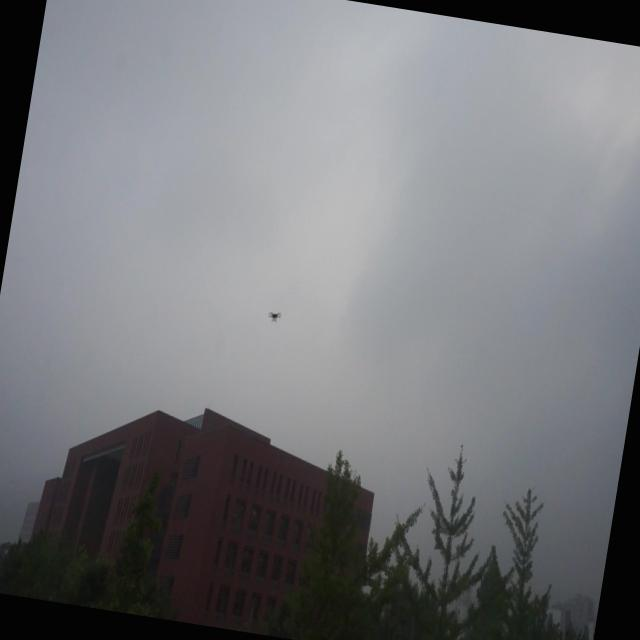drone: (264, 306, 284, 328)
